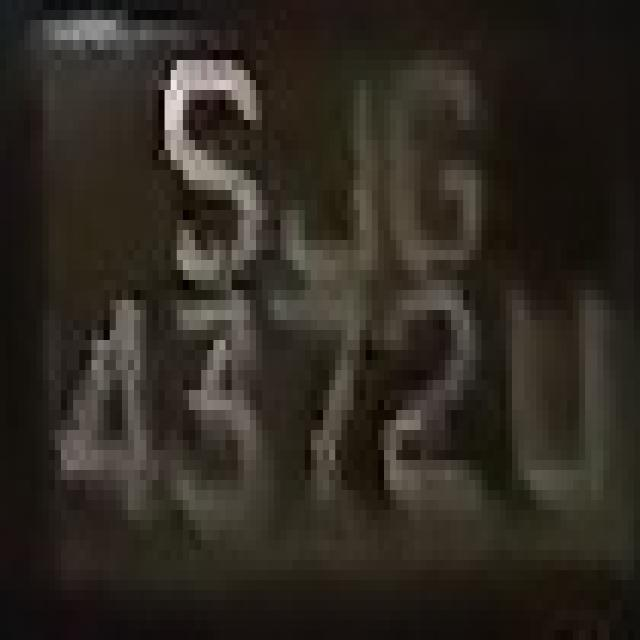2: (366, 290, 482, 550)
3: (146, 280, 268, 570)
4: (36, 280, 152, 570)
7: (244, 270, 384, 590)
G: (384, 30, 482, 310)
J: (280, 30, 390, 320)
S: (146, 40, 286, 330)
U: (494, 240, 616, 520)
